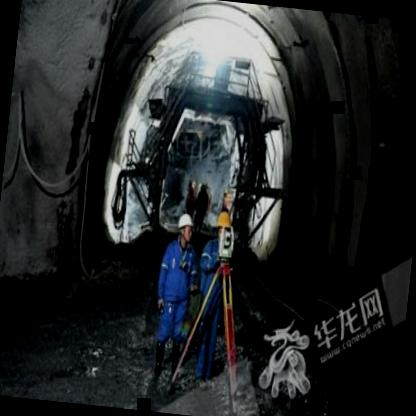helmet: (212, 208, 234, 245), (175, 210, 196, 246)
